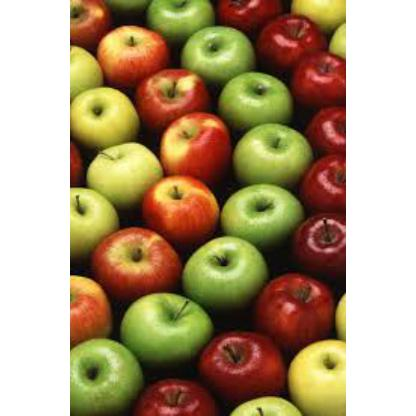apple: (95, 218, 185, 296), (80, 140, 174, 208), (112, 286, 206, 352), (180, 228, 262, 302), (95, 21, 179, 84), (222, 68, 298, 136), (141, 176, 219, 240), (132, 66, 214, 126), (260, 270, 332, 338), (159, 118, 227, 190), (201, 330, 282, 390), (69, 338, 137, 408), (276, 338, 344, 406), (220, 190, 302, 244), (228, 124, 304, 182), (74, 82, 138, 146), (188, 25, 262, 80), (129, 370, 209, 414), (264, 14, 322, 64), (297, 210, 343, 266), (296, 48, 344, 100)
